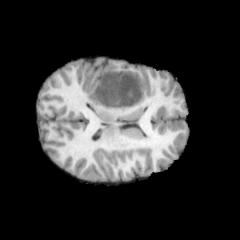glioma: (88, 70, 145, 109)
